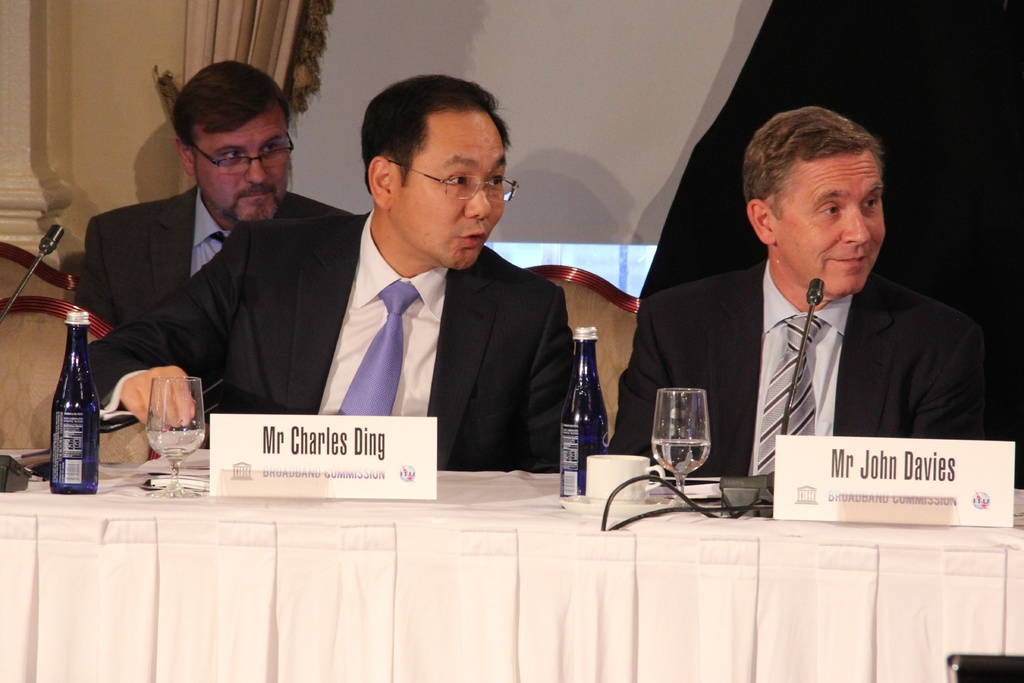Human-face: (394, 109, 506, 268), (772, 154, 884, 299), (191, 105, 286, 229)
